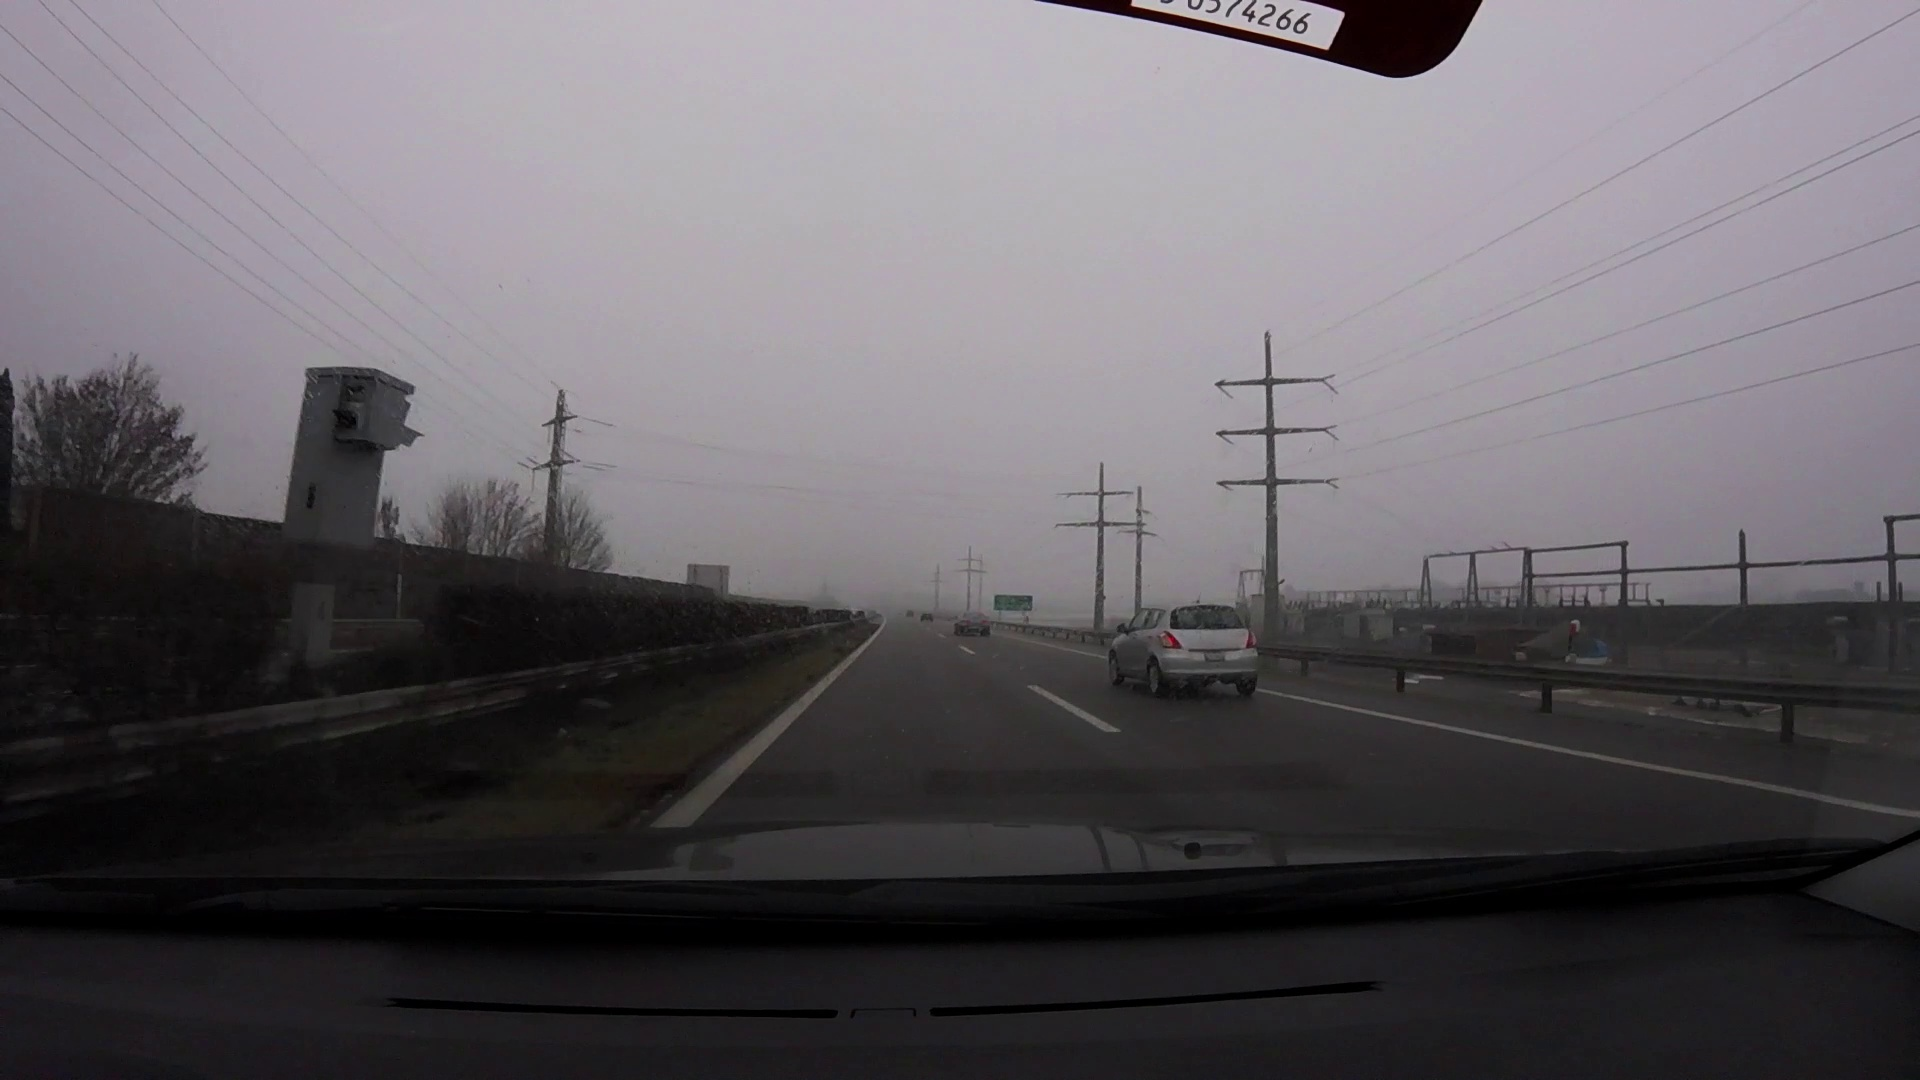radar: (277, 364, 425, 618)
